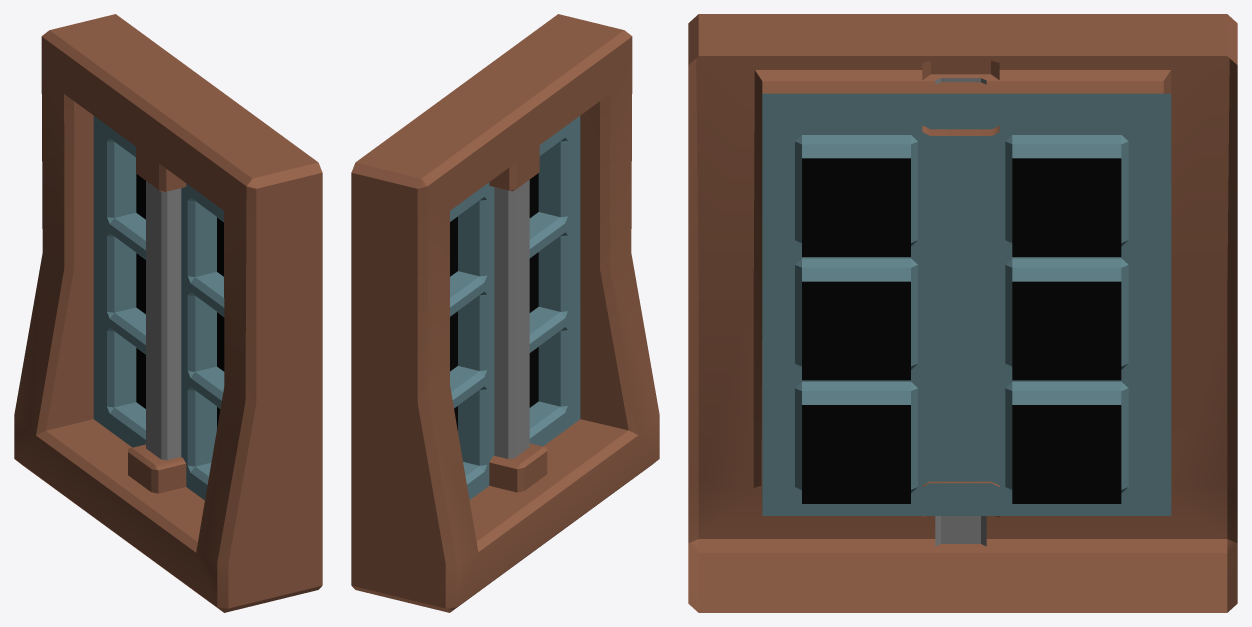
File: ArrowTrap_Main.fbx
3 renders of one model, left to right at view 1: azimuth 30°, elevation 25°; view 2: azimuth 150°, elevation 25°; view 3: azimuth 270°, elevation 25°, orthographic. The views are drawn at different scales.
Parts seen in each view (by area): view 1: ArrowTrap_Main; view 2: ArrowTrap_Main; view 3: ArrowTrap_Main.
Boxes of the visible parts, box(x1,y1,x2,y2) form: ArrowTrap_Main: box(14, 14, 322, 612); ArrowTrap_Main: box(351, 14, 659, 612); ArrowTrap_Main: box(688, 14, 1237, 612).
Size of the model in its own units: 14.73 by 59.37 by 53.09.
